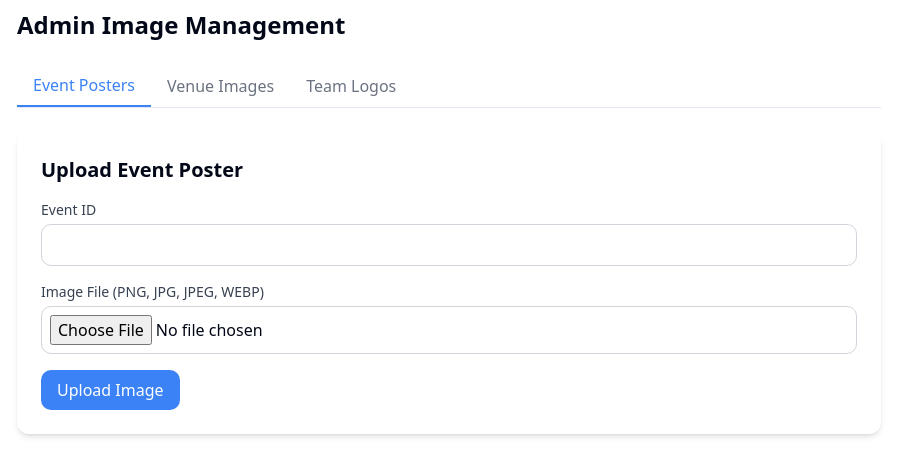
Scenario: AdminImageUploads Component › switches tabs when clicked
Check: the heading "Upload Event Poster" is shown, box x1=41 y1=156 x2=243 y2=183
# Click on Team Logos tab
Click the button "Team Logos" at (351, 86), box x1=290 y1=65 x2=412 y2=107
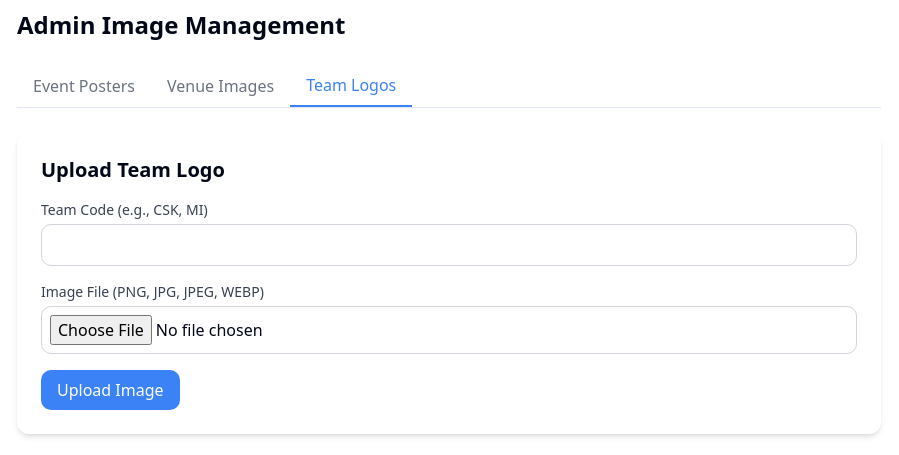
Check: the heading "Upload Team Logo" is shown, box x1=41 y1=156 x2=225 y2=183
Check: the text "Team Code (e.g., CSK, MI)" is shown, box x1=41 y1=200 x2=208 y2=219
# Click on Venue Images tab
Click the button "Venue Images" at (221, 86), box x1=151 y1=65 x2=290 y2=107
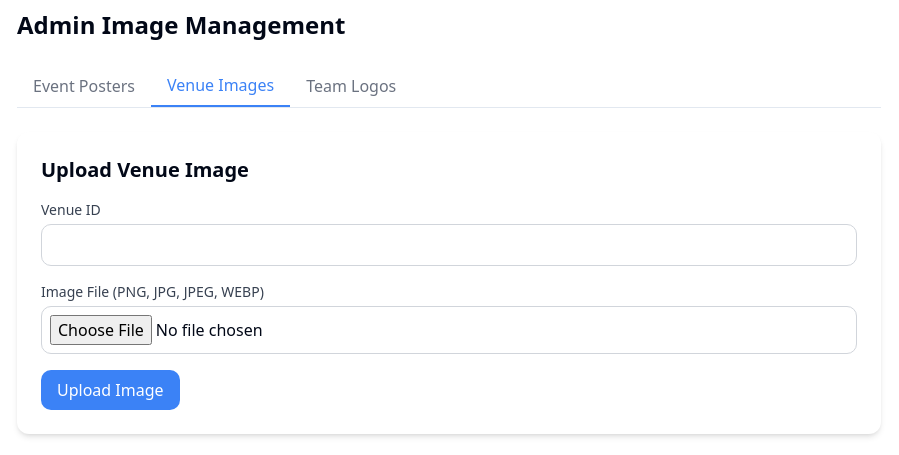
Check: the heading "Upload Venue Image" is shown, box x1=41 y1=156 x2=249 y2=183
